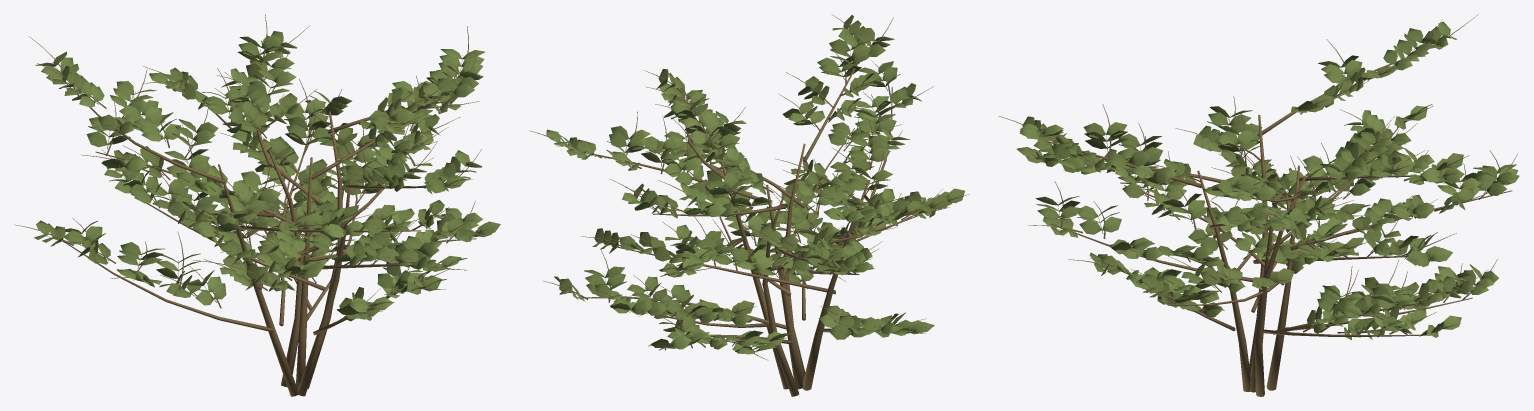
File: Lentisque_0_LOD0.fbx
The picture shows the model from 3 angles, left to right: view 1: azimuth 30°, elevation 25°; view 2: azimuth 150°, elevation 25°; view 3: azimuth 270°, elevation 25°; orthographic projection. The views are drawn at different scales.
Visible parts, largest first — view 1: Lentisque_0_LOD0; view 2: Lentisque_0_LOD0; view 3: Lentisque_0_LOD0.
Boxes of the visible parts, x1,y1,x2,y2 form: Lentisque_0_LOD0: (14, 14, 500, 396); Lentisque_0_LOD0: (529, 14, 969, 396); Lentisque_0_LOD0: (998, 14, 1519, 396).
Bounding box in the file's own units: 240 × 162 × 252.
